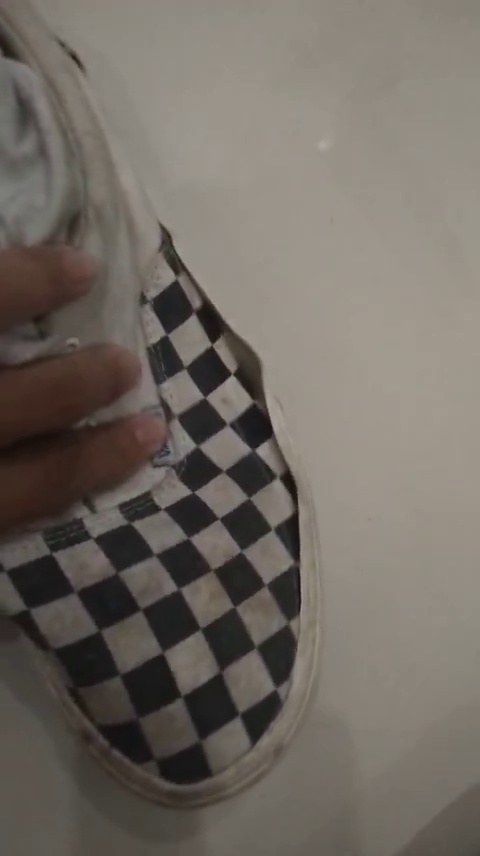bonding: (194, 270, 265, 388), (257, 355, 308, 488)
